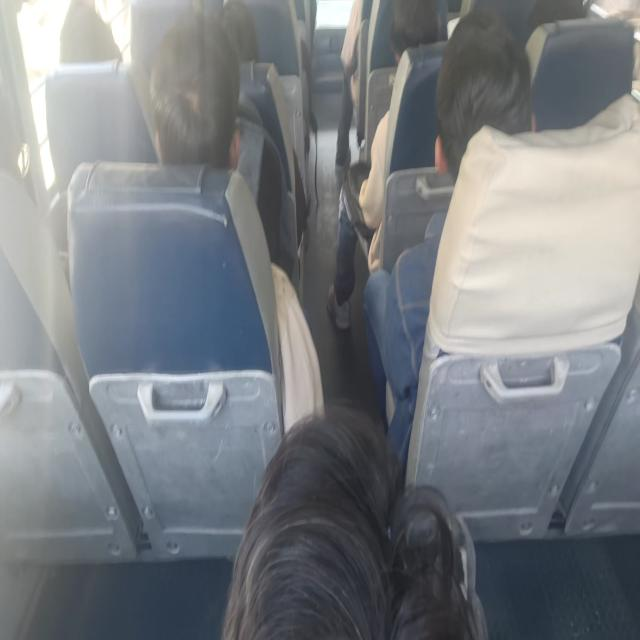person: (362, 8, 534, 471), (221, 402, 489, 638), (148, 11, 299, 286), (326, 0, 445, 329), (148, 12, 241, 169), (334, 0, 363, 178), (58, 0, 123, 65)
